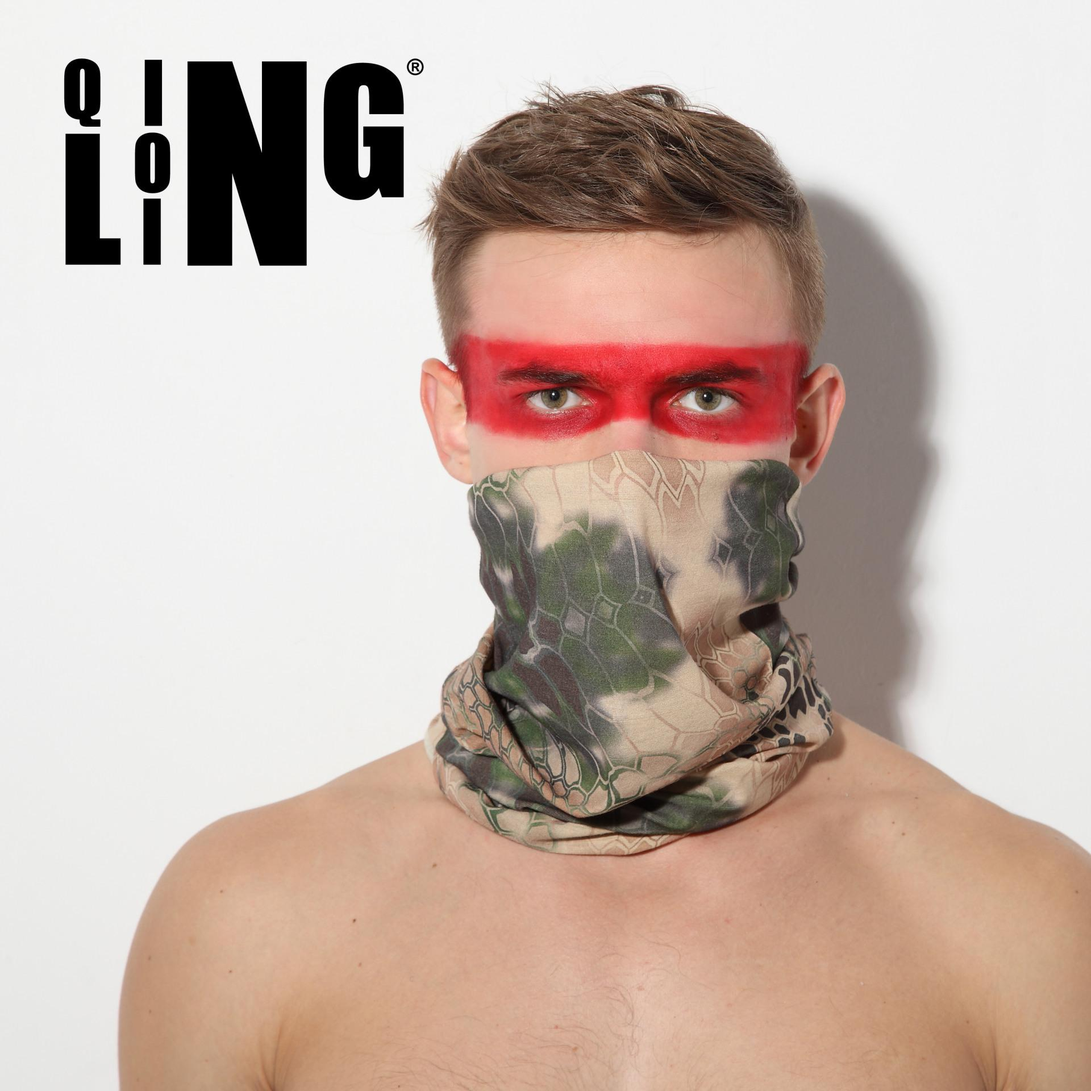OK: (463, 315, 815, 668)
